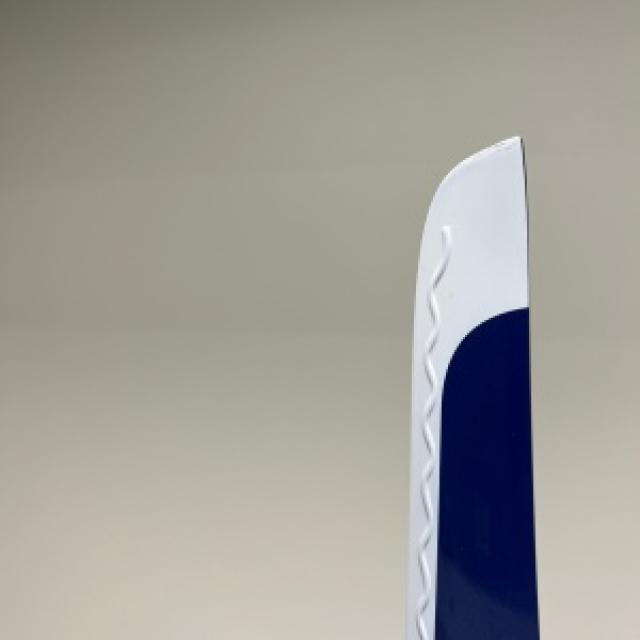healthy: (407, 134, 535, 638)
